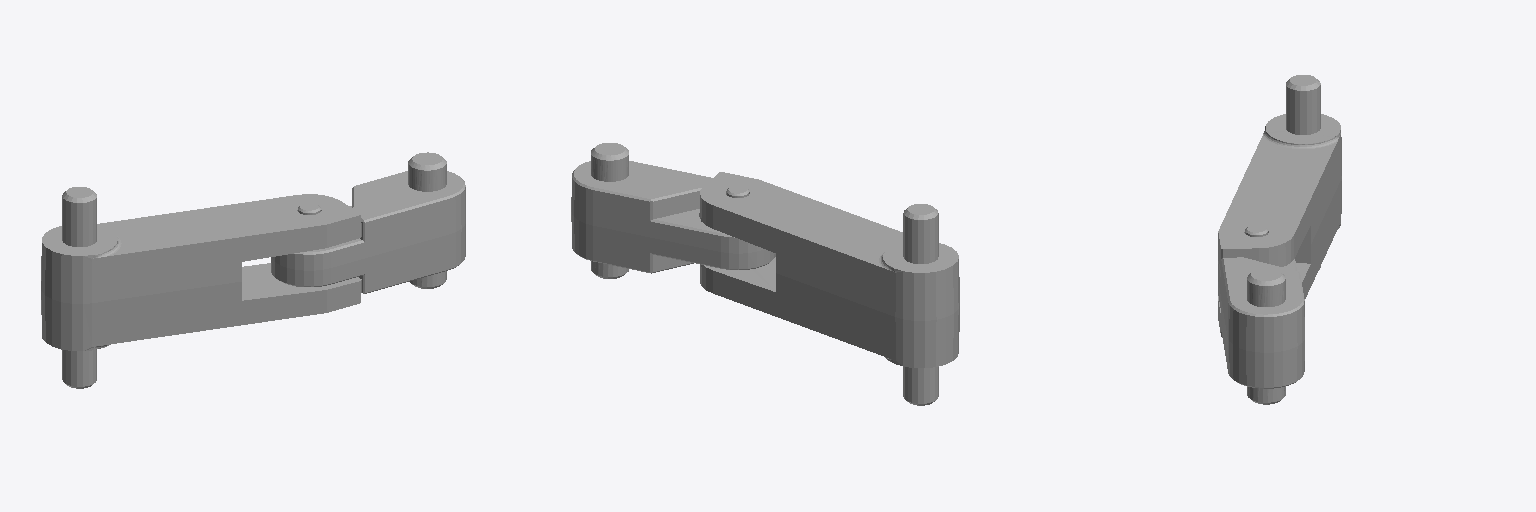
The model's file is index_slider_abpart.obj.
3 renders of one model, left to right at view 1: azimuth 30°, elevation 25°; view 2: azimuth 150°, elevation 25°; view 3: azimuth 270°, elevation 25°, orthographic.
Parts seen in each view (by area): view 1: if_slider_abpart_link; view 2: if_slider_abpart_link; view 3: if_slider_abpart_link.
Part boxes in pixels (bbox=[...]): if_slider_abpart_link: bbox=[41, 152, 465, 388]; if_slider_abpart_link: bbox=[571, 143, 959, 405]; if_slider_abpart_link: bbox=[1218, 75, 1341, 404].
Size of the model in its own units: 0.0235 by 0.0108 by 0.0064.